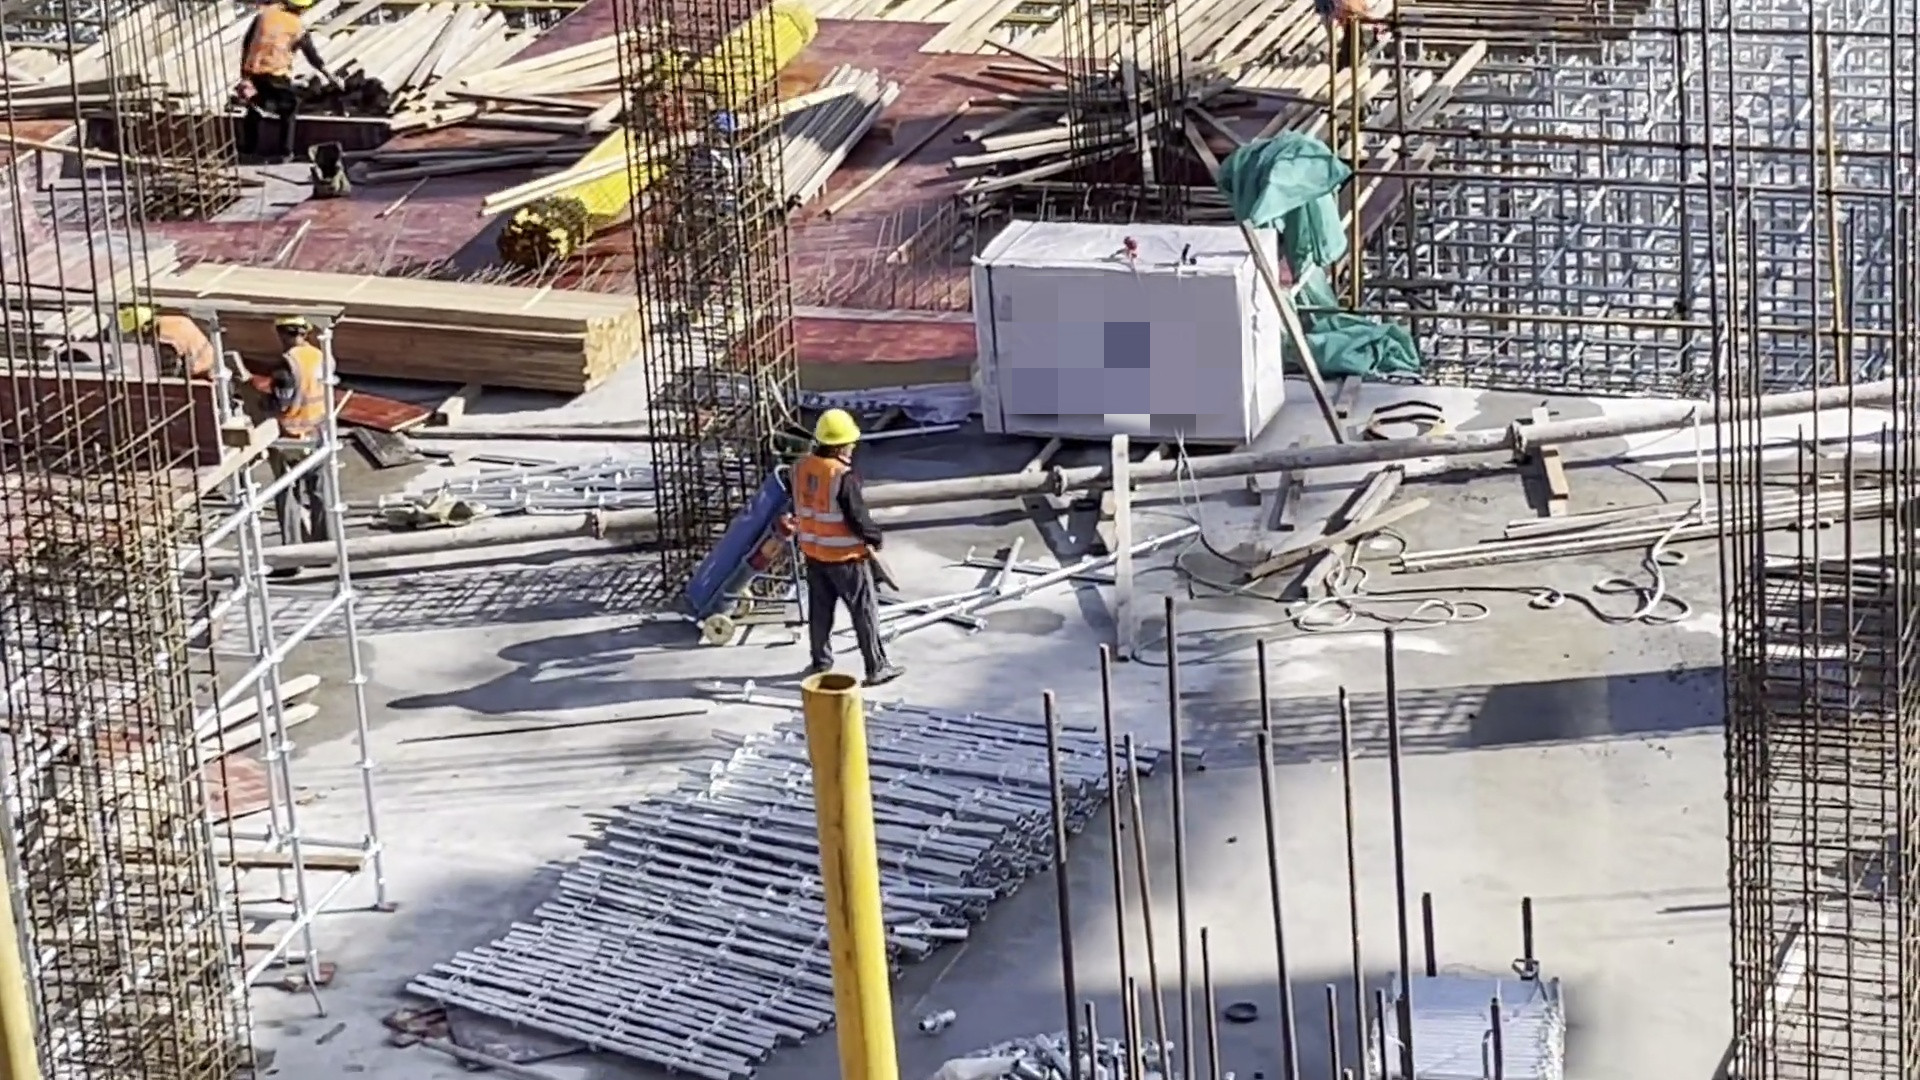helmet: (811, 410, 859, 452)
person: (777, 401, 886, 692), (255, 309, 353, 541), (241, 1, 308, 165), (116, 302, 228, 397), (1311, 1, 1379, 80)
scaffold: (435, 687, 1160, 1080), (1355, 941, 1576, 1080)
vest: (796, 467, 870, 574), (262, 349, 324, 439), (156, 316, 216, 381), (249, 9, 302, 83)
wood: (328, 1, 626, 143), (340, 278, 645, 407)
